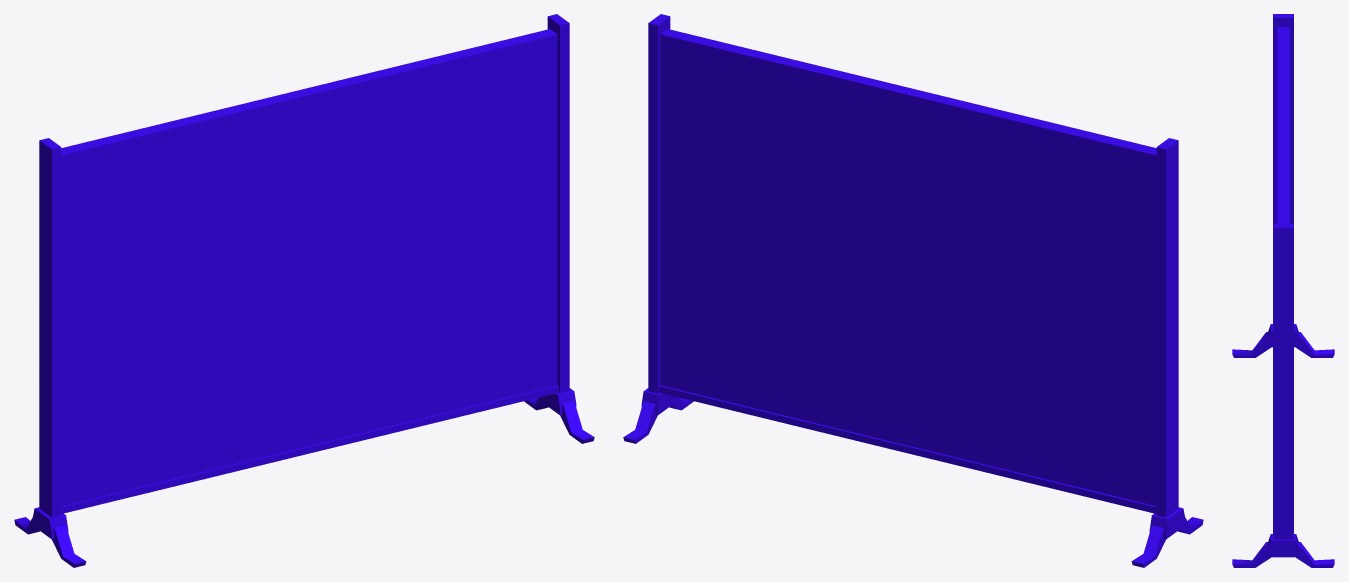
File: office_pack_partitionDivider_large_1_meshCollider.fbx
3 views of the same model, side by side, from view 1: azimuth 30°, elevation 25°; view 2: azimuth 150°, elevation 25°; view 3: azimuth 270°, elevation 25° (orthographic). The views are drawn at different scales.
Visible parts, largest first — view 1: office_pack_partitionDivider_large_1_meshCollider; view 2: office_pack_partitionDivider_large_1_meshCollider; view 3: office_pack_partitionDivider_large_1_meshCollider.
Boxes of the visible parts, box(x1,y1,x2,y2) form: office_pack_partitionDivider_large_1_meshCollider: box(14, 14, 594, 567); office_pack_partitionDivider_large_1_meshCollider: box(623, 14, 1203, 567); office_pack_partitionDivider_large_1_meshCollider: box(1232, 14, 1334, 567).
Size of the model in its own units: 150 by 110 by 30.08.
